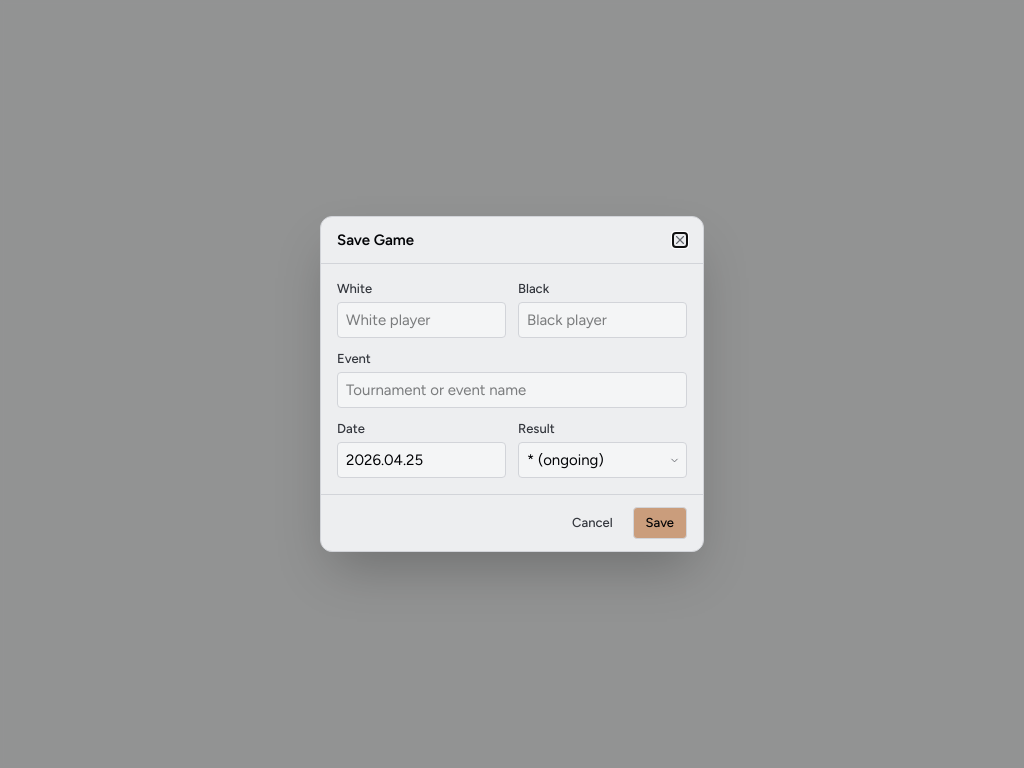
Test: SaveGameDialog › disables the Save button while saving
Step 1. Click the button "Save" → coordinates (660, 523), box [633,507,687,539]
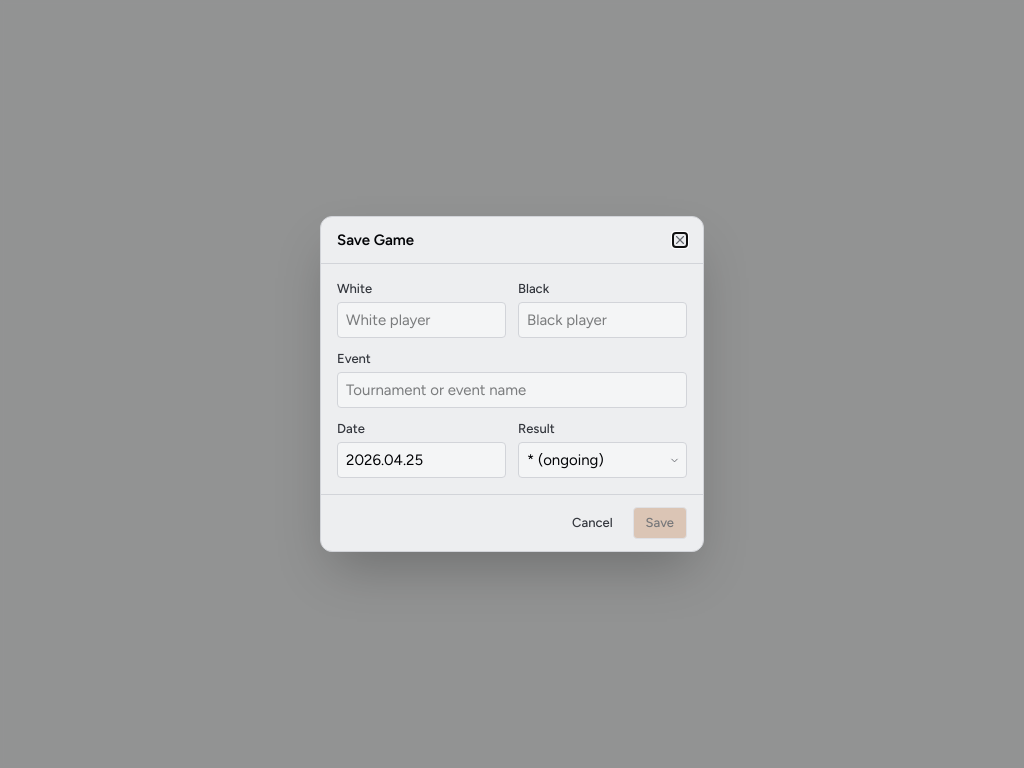
expect the button "Save" is disabled: met, box [633,507,687,539]
